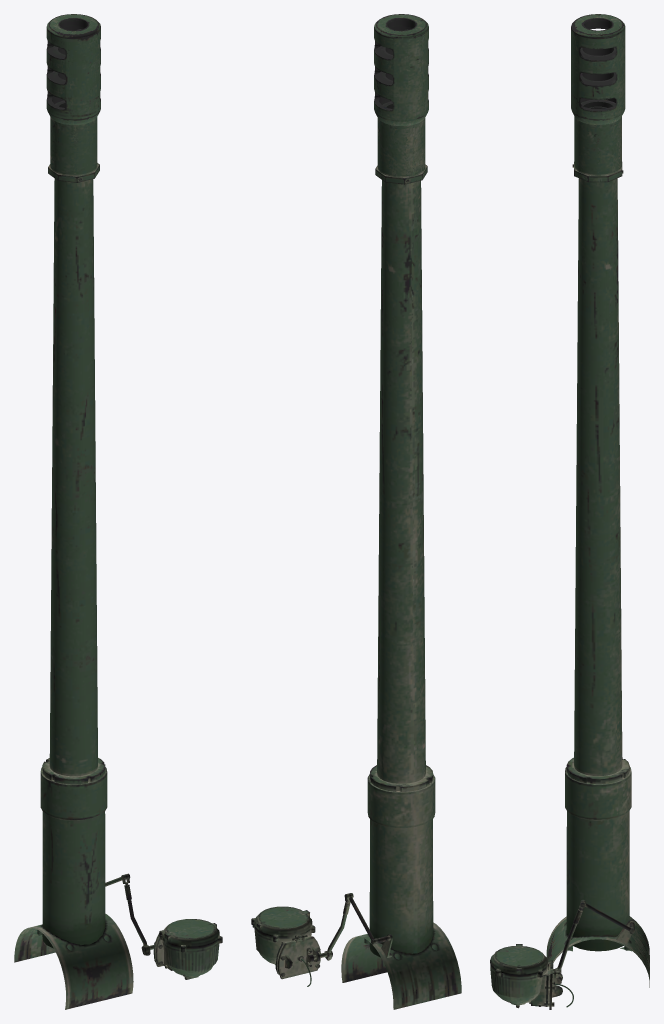
The model's file is Gun_01.glb.
3 views of the same model, side by side, from view 1: azimuth 30°, elevation 25°; view 2: azimuth 210°, elevation 25°; view 3: azimuth 270°, elevation 25° (orthographic).
Parts seen in each view (by area): view 1: set_0_group_0; view 2: set_0_group_0; view 3: set_0_group_0.
Boxes of the visible parts, <box> form: set_0_group_0: <box>14,14,222,1009</box>; set_0_group_0: <box>251,14,461,1009</box>; set_0_group_0: <box>490,14,649,1009</box>.
Size of the model in its own units: 0.9583 by 6.44 by 0.9725.
1 material, 1 textured.
